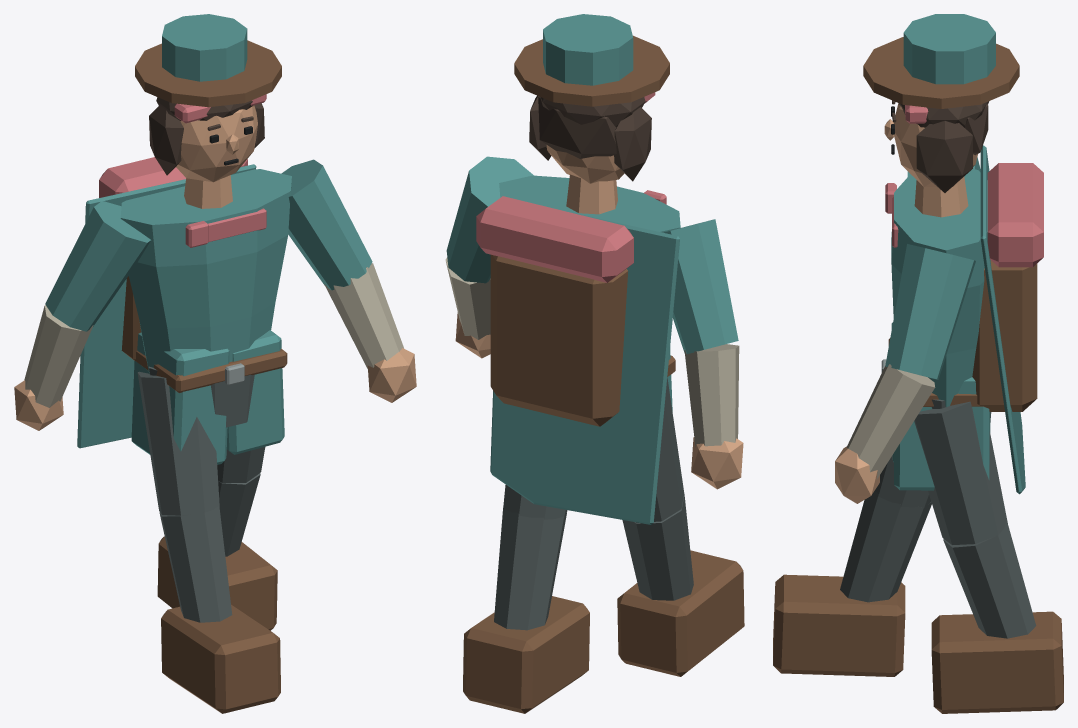
Rendered from npc_traveller_step_l_v01.glb.
The picture shows the model from 3 angles, left to right: view 1: azimuth 30°, elevation 25°; view 2: azimuth 150°, elevation 25°; view 3: azimuth 270°, elevation 25°; orthographic projection. The views are drawn at different scales.
Parts seen in each view (by area): view 1: GEO_npc_traveller_step_l_v01; view 2: GEO_npc_traveller_step_l_v01; view 3: GEO_npc_traveller_step_l_v01.
Boxes of the visible parts, bbox=[...] form: GEO_npc_traveller_step_l_v01: bbox=[14, 14, 416, 713]; GEO_npc_traveller_step_l_v01: bbox=[445, 14, 744, 713]; GEO_npc_traveller_step_l_v01: bbox=[773, 14, 1063, 713].
Bounding box in the file's own units: 1.24 × 2.17 × 0.8808.
